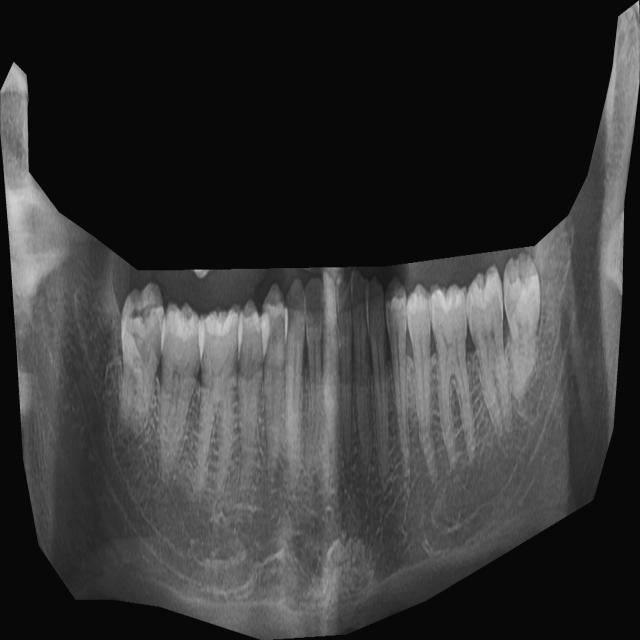mandibula: (0, 0, 640, 640)
